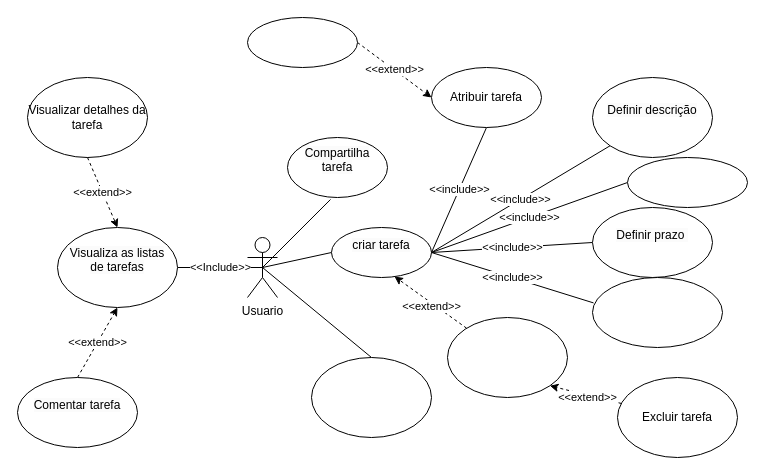
Image size: 765x475. Some labels were removed from this diagram. The box of each missing label's shape, as (x1, y1, x2, y2) in pixels:
Acompanha o progresso da tarefa: (310, 356, 432, 438)
Define prioridade: (592, 276, 722, 348)
Definir titulo: (626, 156, 748, 208)
Editar tarefa: (446, 316, 568, 398)
marca tarefa como concluida: (246, 16, 358, 68)
